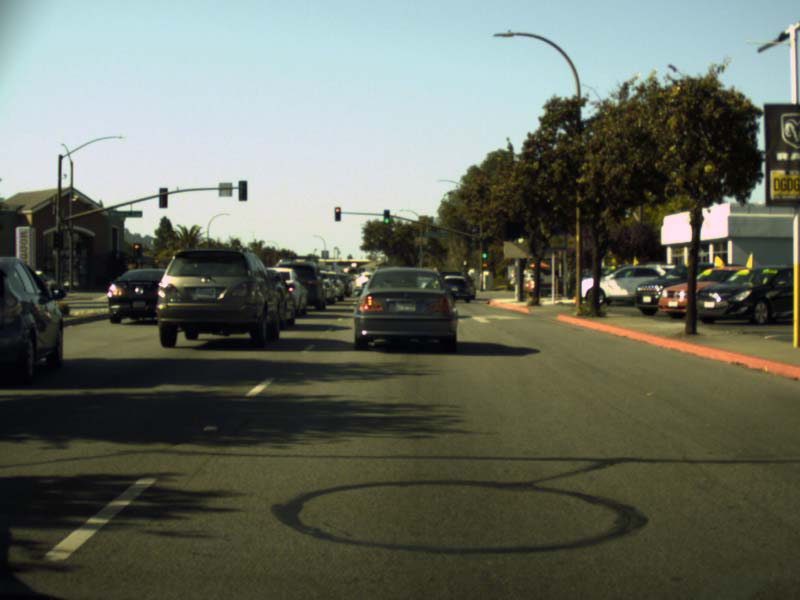Green: (383, 208, 389, 225), (482, 247, 486, 259)
Red: (334, 206, 341, 221)
